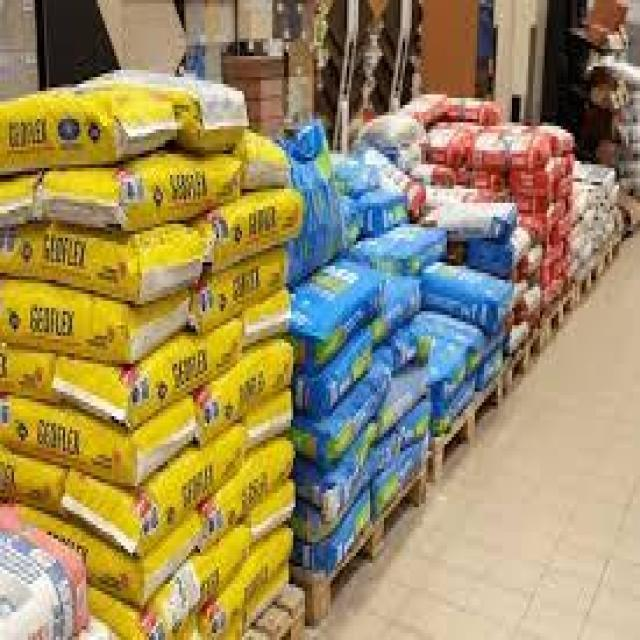gunny_bag: (58, 418, 245, 560), (53, 316, 239, 436), (1, 221, 213, 310), (1, 393, 198, 488), (44, 143, 242, 233), (42, 510, 205, 613), (0, 281, 190, 365), (0, 87, 174, 172), (101, 63, 248, 153), (145, 524, 256, 640), (0, 506, 95, 639), (290, 248, 386, 373), (198, 436, 296, 553), (198, 523, 295, 640), (198, 336, 297, 448), (295, 358, 392, 468), (205, 187, 306, 275), (192, 245, 289, 336), (302, 420, 374, 530), (418, 258, 514, 333), (293, 326, 373, 415), (300, 486, 373, 571), (372, 365, 431, 447), (357, 221, 447, 273), (410, 310, 486, 365), (372, 440, 423, 519), (373, 270, 422, 350), (471, 123, 550, 172), (242, 123, 293, 188), (246, 285, 296, 350), (469, 225, 535, 274), (441, 201, 517, 241), (509, 150, 573, 196), (426, 343, 467, 414), (357, 185, 408, 238), (426, 119, 481, 168), (433, 380, 475, 434), (520, 198, 566, 238), (400, 398, 434, 452), (405, 92, 446, 127), (447, 96, 503, 121), (473, 349, 504, 391), (508, 319, 529, 355)
